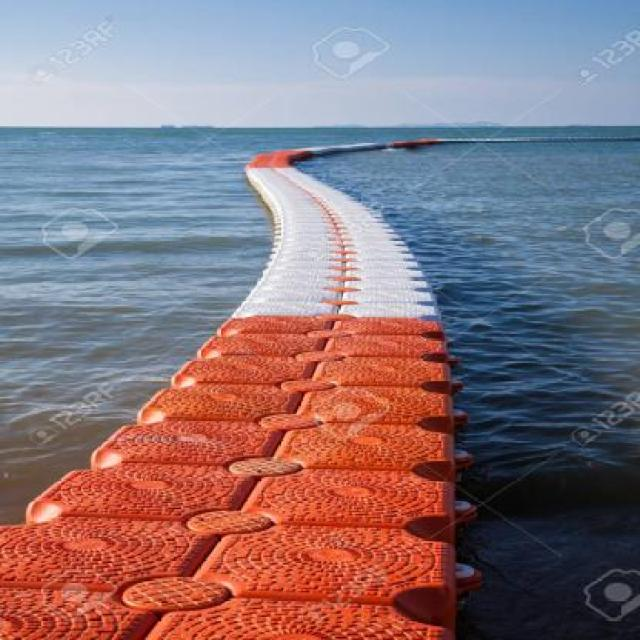a: (55, 440, 461, 640), (199, 338, 459, 507), (258, 231, 446, 331), (240, 158, 365, 219)
